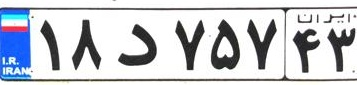character: (110, 17, 163, 73), (66, 11, 109, 76), (168, 12, 208, 76), (243, 14, 280, 75), (208, 11, 243, 74), (31, 14, 66, 76), (288, 23, 323, 77), (326, 25, 357, 80)
